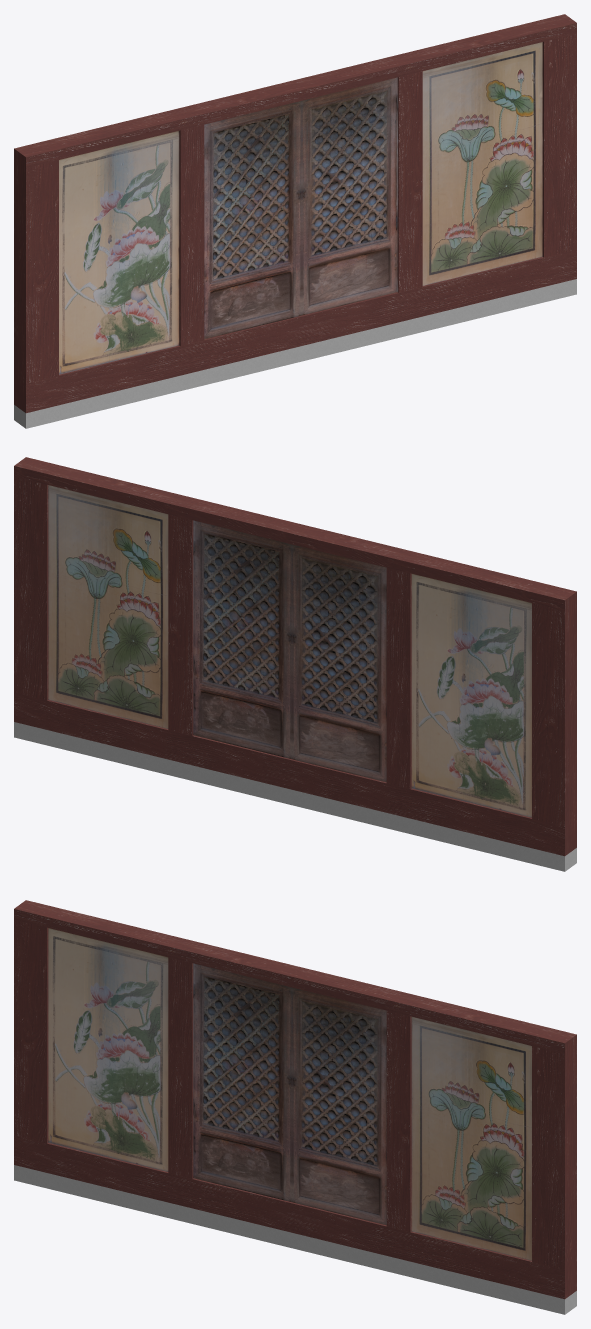
Rendered from SM_Sun_Kak_Wall_C.fbx.
3 renders of one model, top to bottom at view 1: azimuth 30°, elevation 25°; view 2: azimuth 150°, elevation 25°; view 3: azimuth 330°, elevation 25°, orthographic.
Visible parts, largest first — view 1: SM_Sun_Kak_Wall_C; view 2: SM_Sun_Kak_Wall_C; view 3: SM_Sun_Kak_Wall_C.
Boxes of the visible parts, x1=… form: SM_Sun_Kak_Wall_C: x1=14, y1=14, x2=576, y2=428; SM_Sun_Kak_Wall_C: x1=14, y1=457, x2=576, y2=871; SM_Sun_Kak_Wall_C: x1=14, y1=900, x2=576, y2=1314.
Size of the model in its own units: 397 by 187 by 15.
